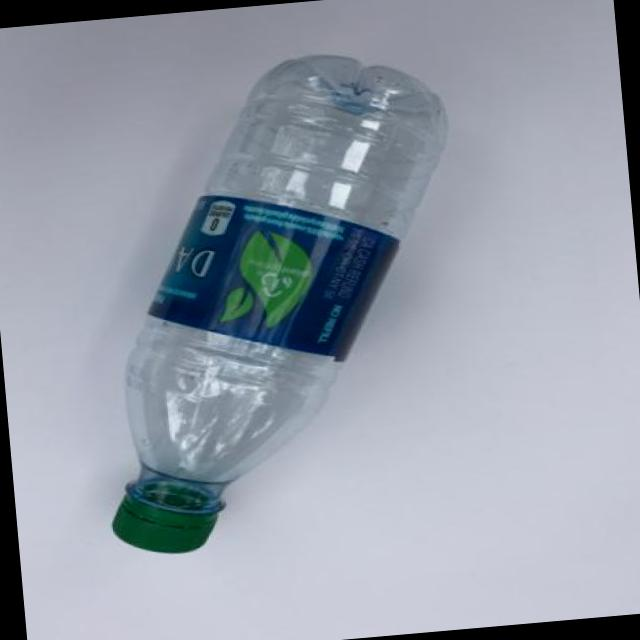plastic: (25, 48, 456, 570)
